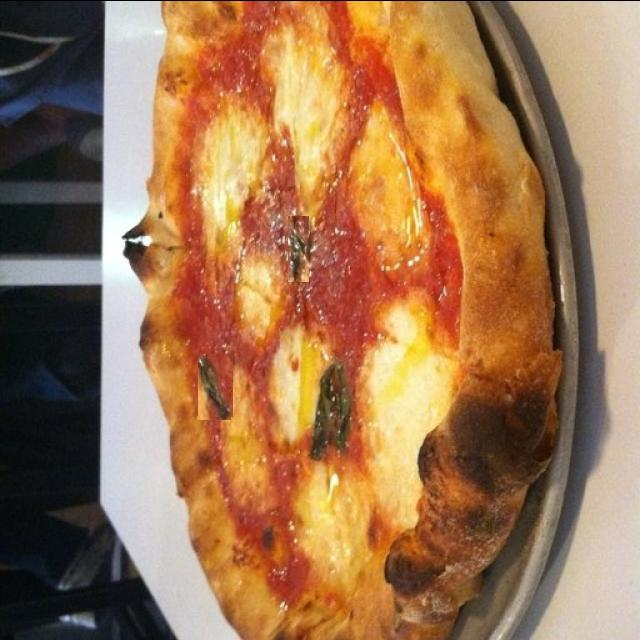basil: (310, 361, 354, 458), (198, 352, 233, 418), (288, 215, 309, 281)
pizza: (122, 0, 564, 640)
